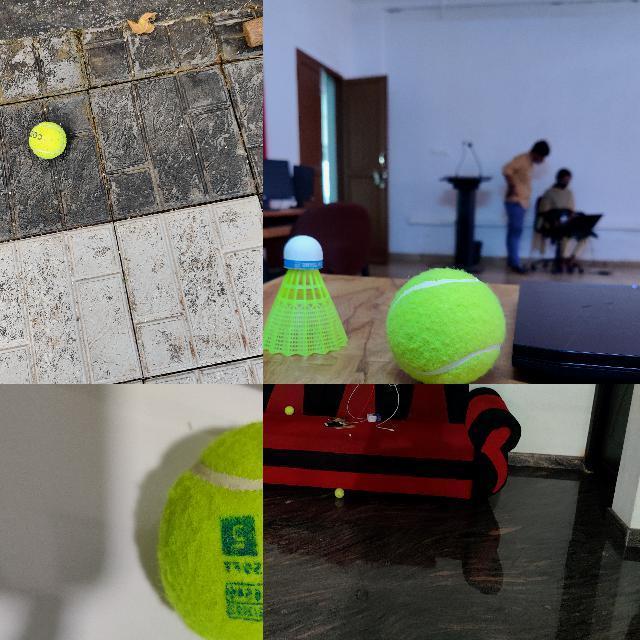Tennis Ball: (154, 417, 263, 639), (387, 269, 506, 383), (28, 121, 67, 159), (335, 488, 345, 498), (285, 406, 295, 415)
